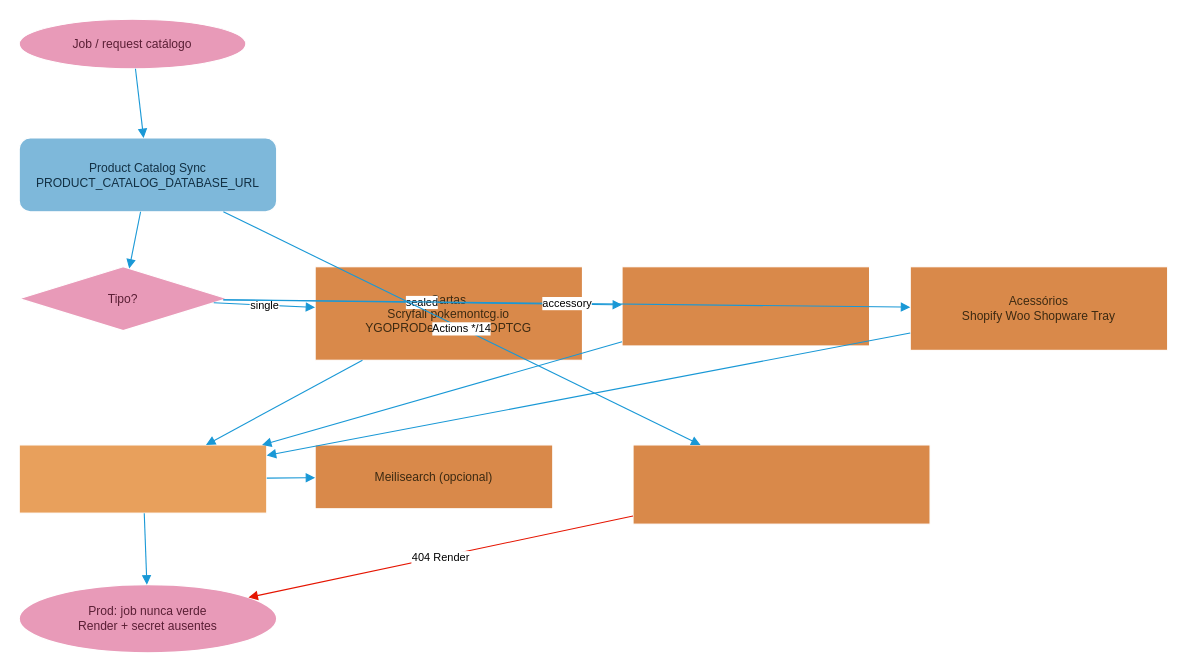
Some shapes in this 1187 by 672 pixel diagram are drawn without their labels. Each missing label, with the centre of its shape:
Cron catalog-health-ping GET /runtime/judge/catalog/health?lite=1: (781,484)
Selados TCGCSV → TCGplayer CDN: (745,306)
SQL product_catalog + media.assets: (142,478)
